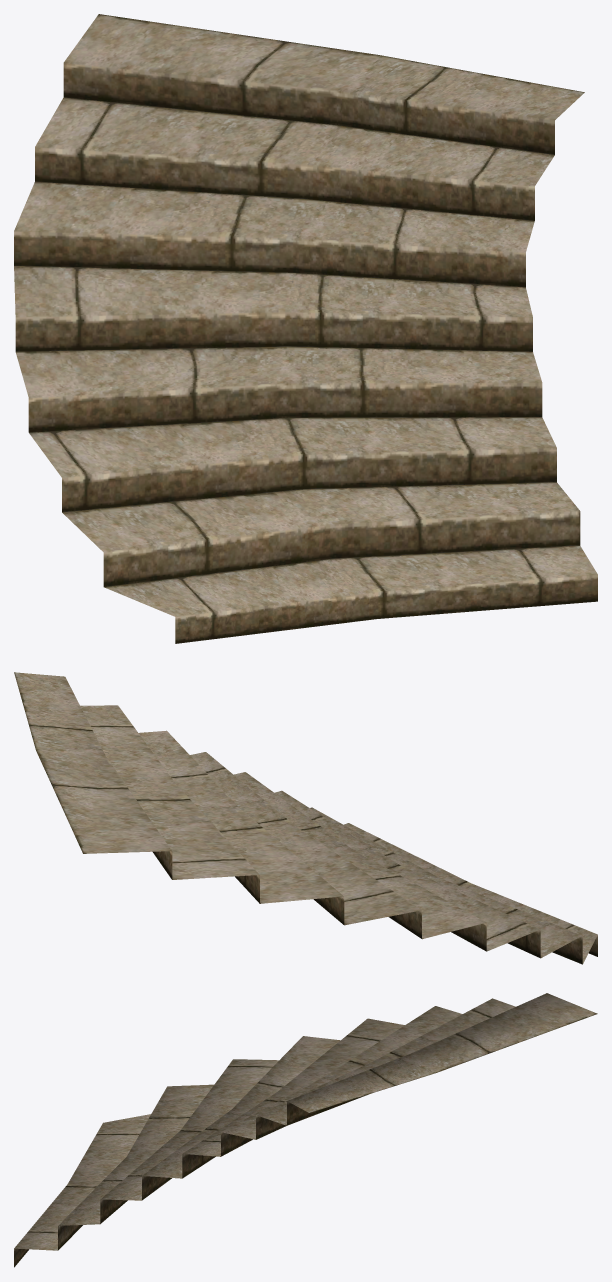
The model's file is EKH_THRONE_PS_TH_EKH_STEP_01.fbx.
3 views of the same model, one above another, from view 1: azimuth 30°, elevation 25°; view 2: azimuth 150°, elevation 25°; view 3: azimuth 270°, elevation 25° (orthographic). The views are drawn at different scales.
Parts seen in each view (by area): view 1: EKH_THRONE_PS_TH_EKH_STEP_01; view 2: EKH_THRONE_PS_TH_EKH_STEP_01; view 3: EKH_THRONE_PS_TH_EKH_STEP_01.
Boxes of the visible parts, x1,y1,x2,y2 form: EKH_THRONE_PS_TH_EKH_STEP_01: (14,14,597,643); EKH_THRONE_PS_TH_EKH_STEP_01: (14,672,597,964); EKH_THRONE_PS_TH_EKH_STEP_01: (14,993,597,1267).
Size of the model in its own units: 48694 by 24915 by 59301.
1 material, 1 textured.
